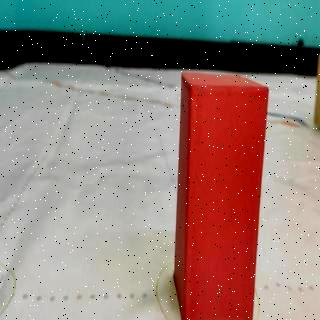redbox: (176, 72, 268, 320)
